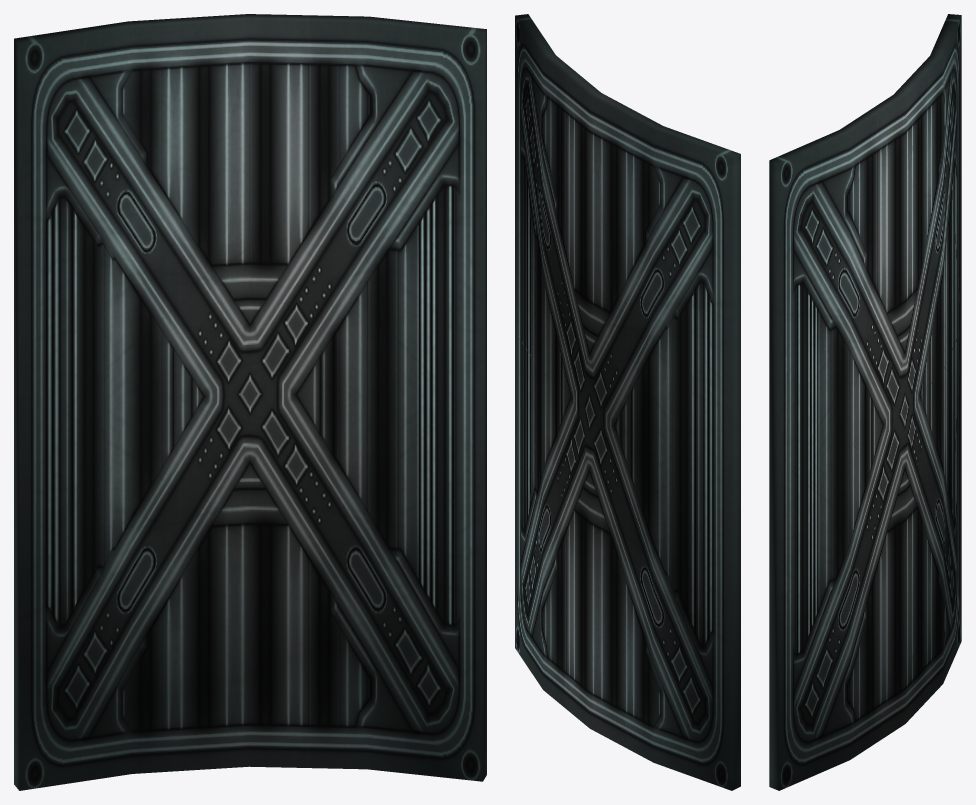
File: ContainerLid.fbx
The picture shows the model from 3 angles, left to right: view 1: azimuth 30°, elevation 25°; view 2: azimuth 150°, elevation 25°; view 3: azimuth 270°, elevation 25°; orthographic projection. The views are drawn at different scales.
Visible parts, largest first — view 1: Open Container2.001; view 2: Open Container2.001; view 3: Open Container2.001.
Part boxes in pixels (box(x1,y1,x2,y2)): Open Container2.001: box(14, 14, 486, 790); Open Container2.001: box(515, 14, 740, 790); Open Container2.001: box(769, 14, 961, 790).
Bounding box in the file's own units: 118 × 229 × 63.53.
